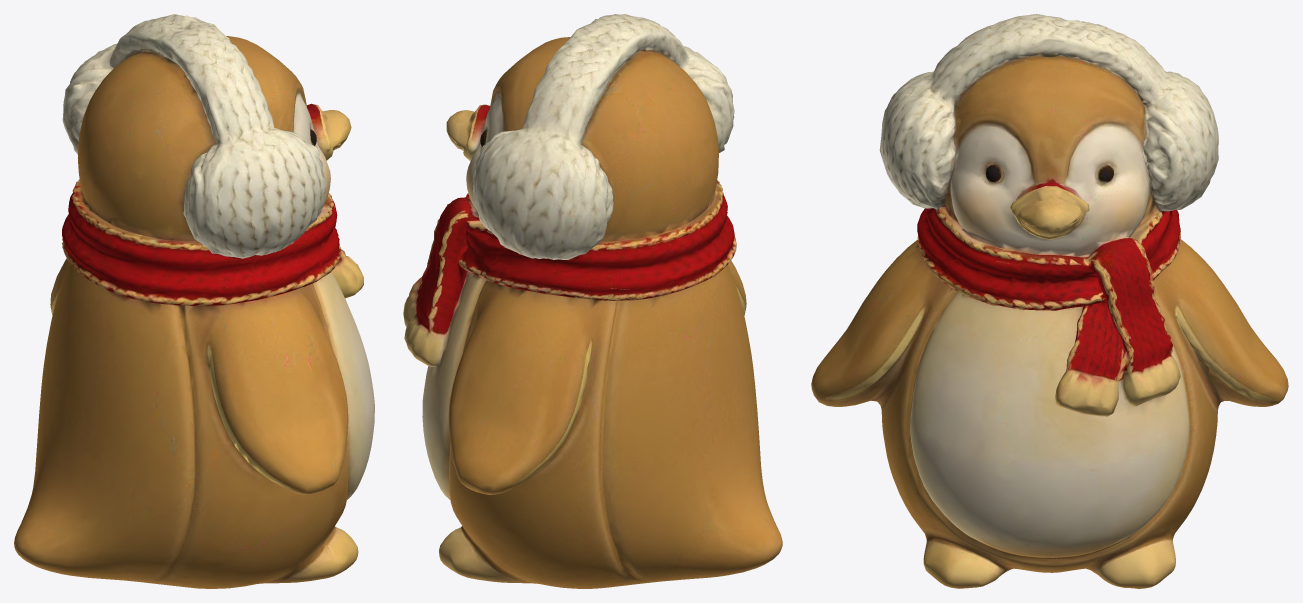
File: penguin.glb
The picture shows the model from 3 angles, left to right: view 1: azimuth 30°, elevation 25°; view 2: azimuth 150°, elevation 25°; view 3: azimuth 270°, elevation 25°; orthographic projection.
Size of the model in its own units: 1.4 by 2 by 1.66.
Materials: 1 (1 with a texture image).
